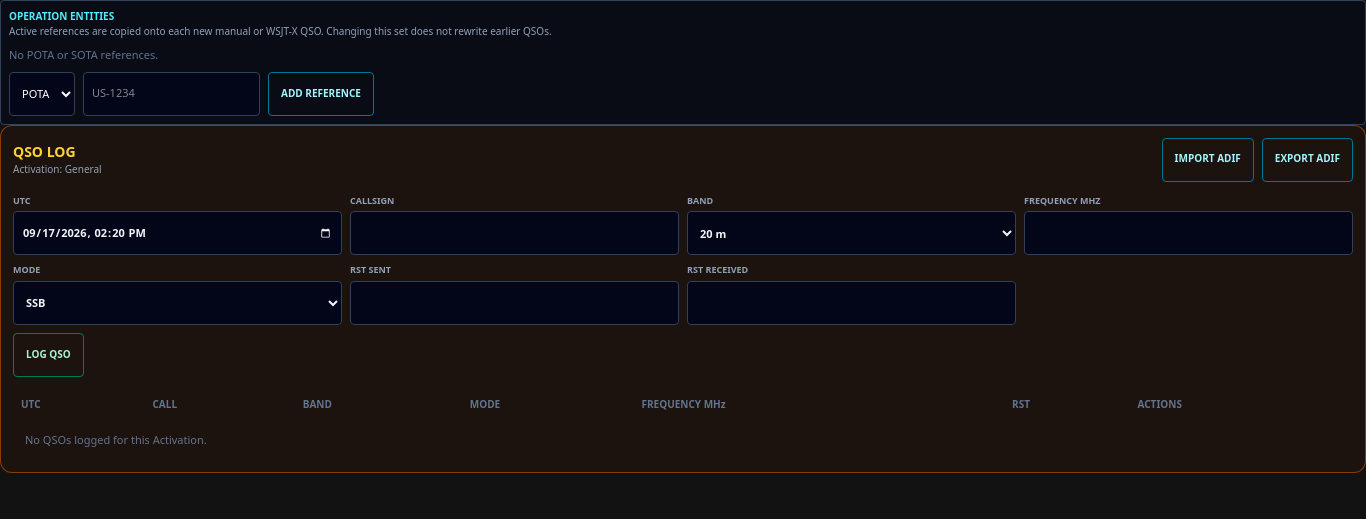
it: QsoLoggerPanel › downloads one ADIF file per entity without navigating to an API error
Click the link "EXPORT ADIF" at (1307, 160), box x1=1262 y1=138 x2=1353 y2=182
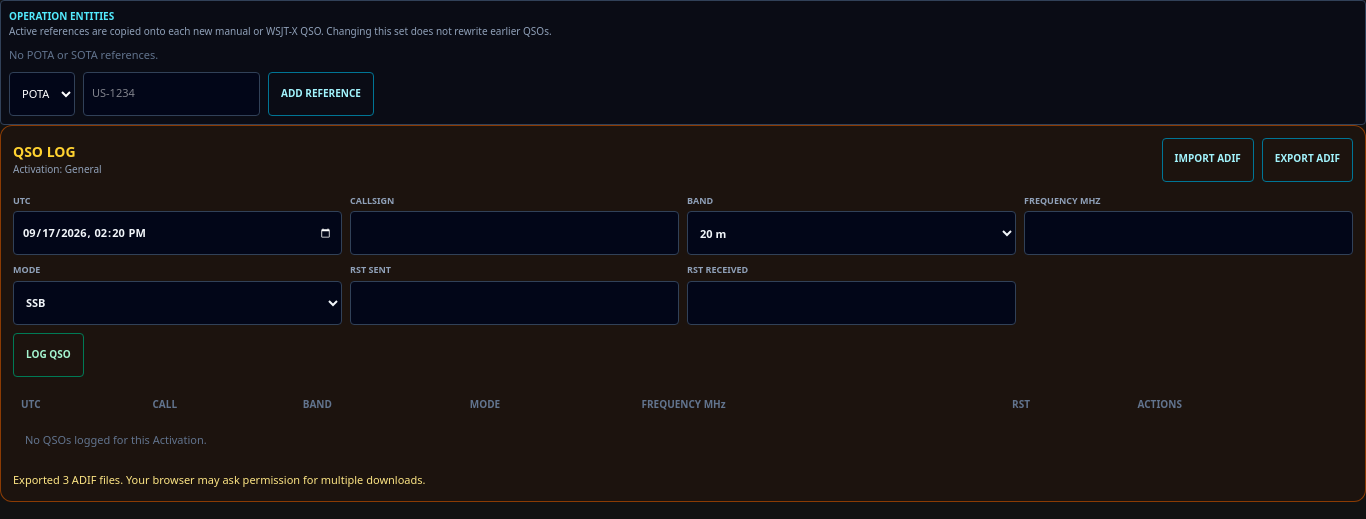
Now the text "Exported 3 ADIF files. Your browser may ask permission for multiple downloads." is shown, box x1=13 y1=472 x2=426 y2=487
